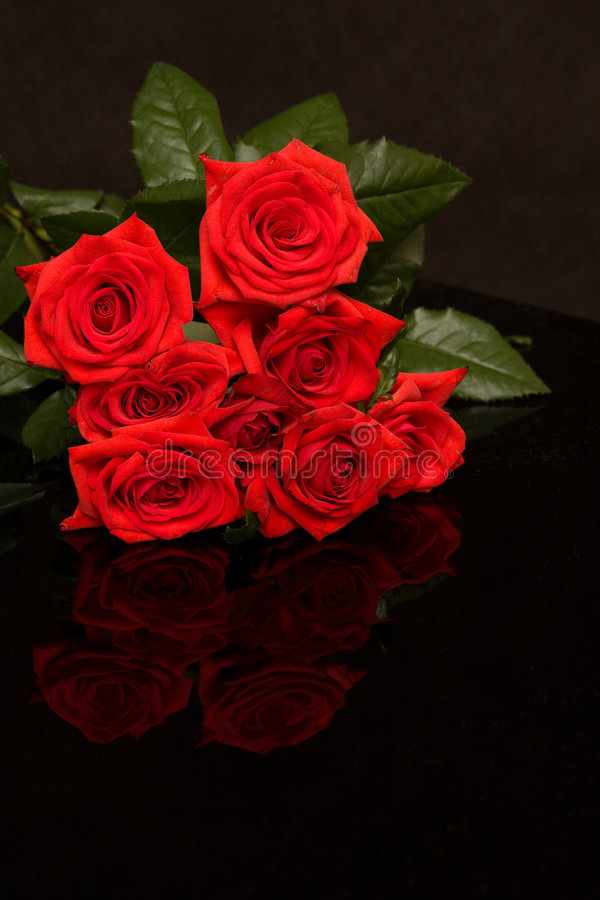RedRose: (171, 166, 317, 304), (261, 378, 387, 526), (60, 214, 167, 376), (103, 317, 237, 426), (106, 441, 228, 546), (374, 341, 479, 452), (261, 304, 372, 404)
